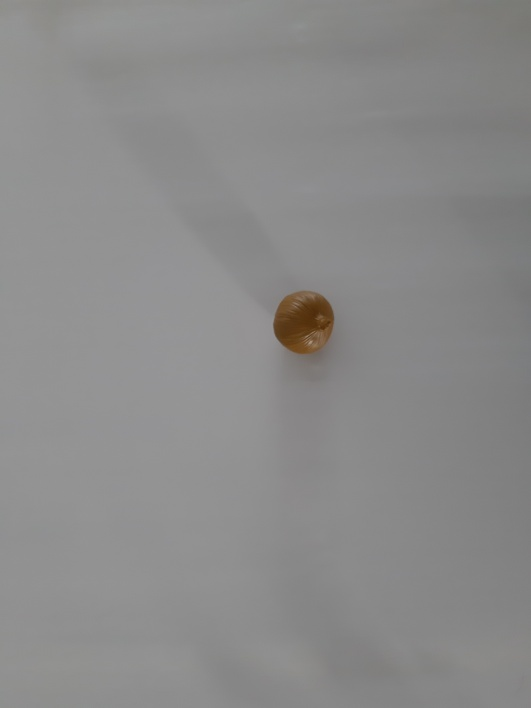onion: (255, 278, 349, 365)
